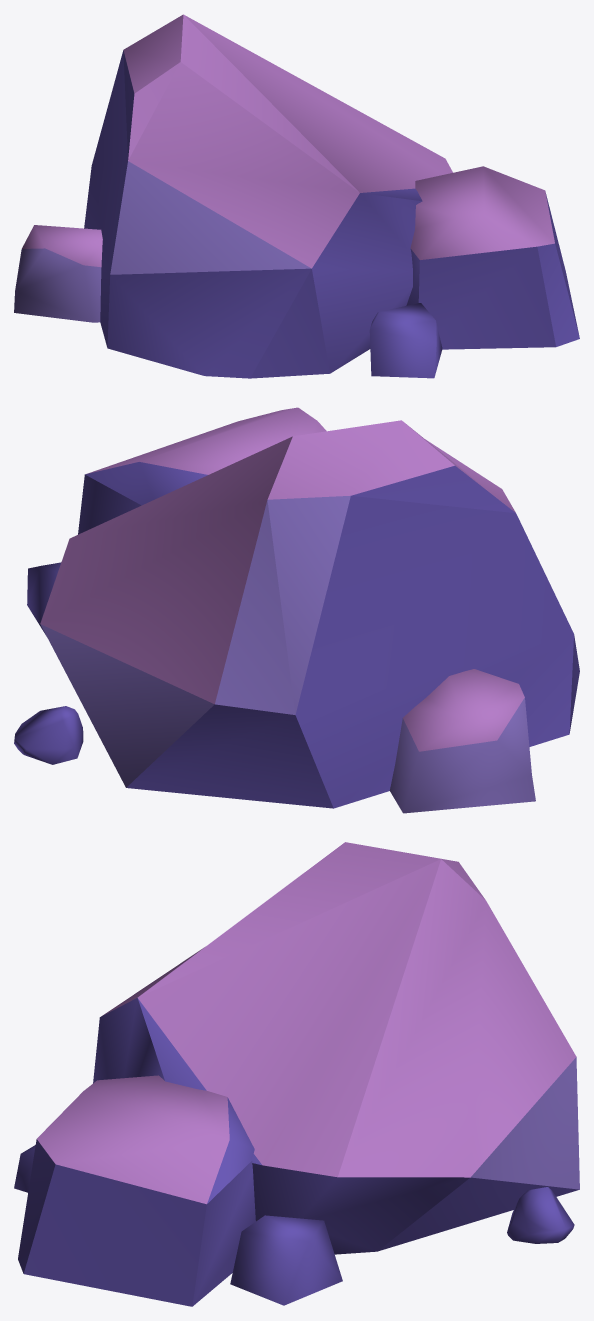
The model's file is Big_Rock.fbx.
3 views of the same model, one above another, from view 1: azimuth 30°, elevation 25°; view 2: azimuth 150°, elevation 25°; view 3: azimuth 270°, elevation 25° (orthographic). The views are drawn at different scales.
Parts seen in each view (by area): view 1: rock04; view 2: rock04; view 3: rock04.
Boxes of the visible parts, <box> form: rock04: <box>14,14,579,378</box>; rock04: <box>14,407,579,813</box>; rock04: <box>14,842,579,1306</box>.
Size of the model in its own units: 174 by 90.59 by 160.
